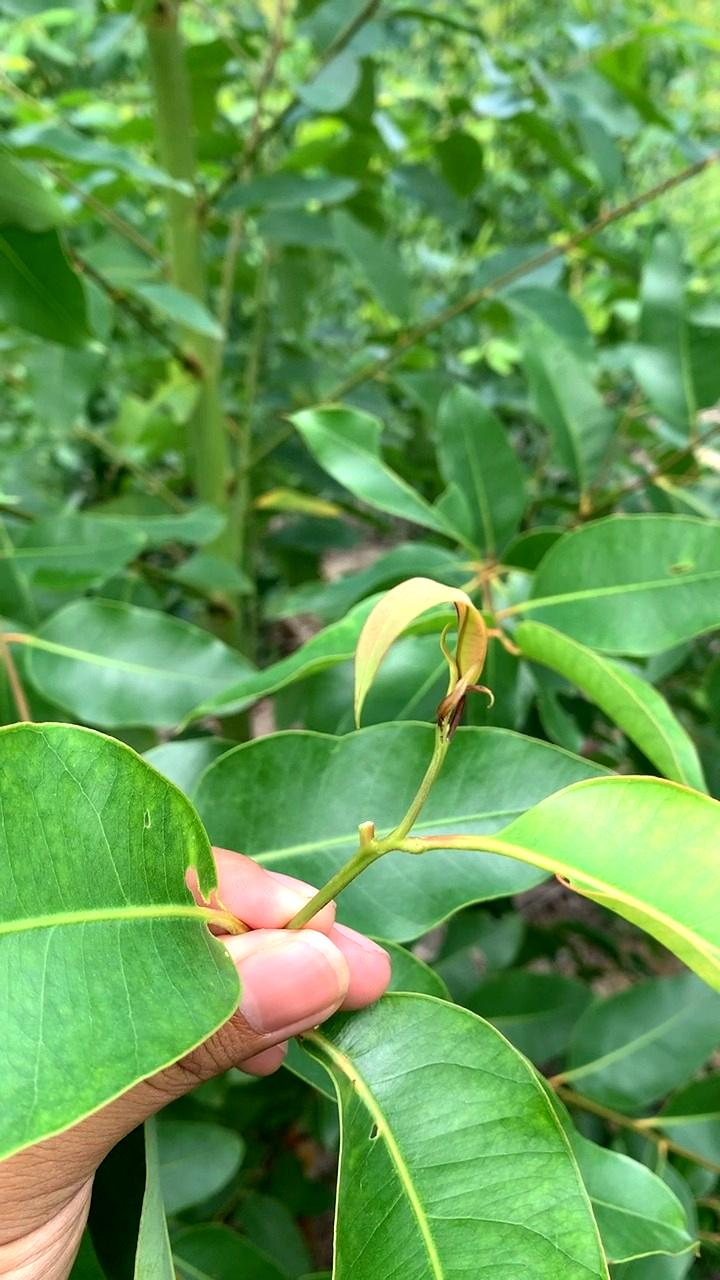Helopeltis-Withered Sprout: (345, 558, 491, 749)
